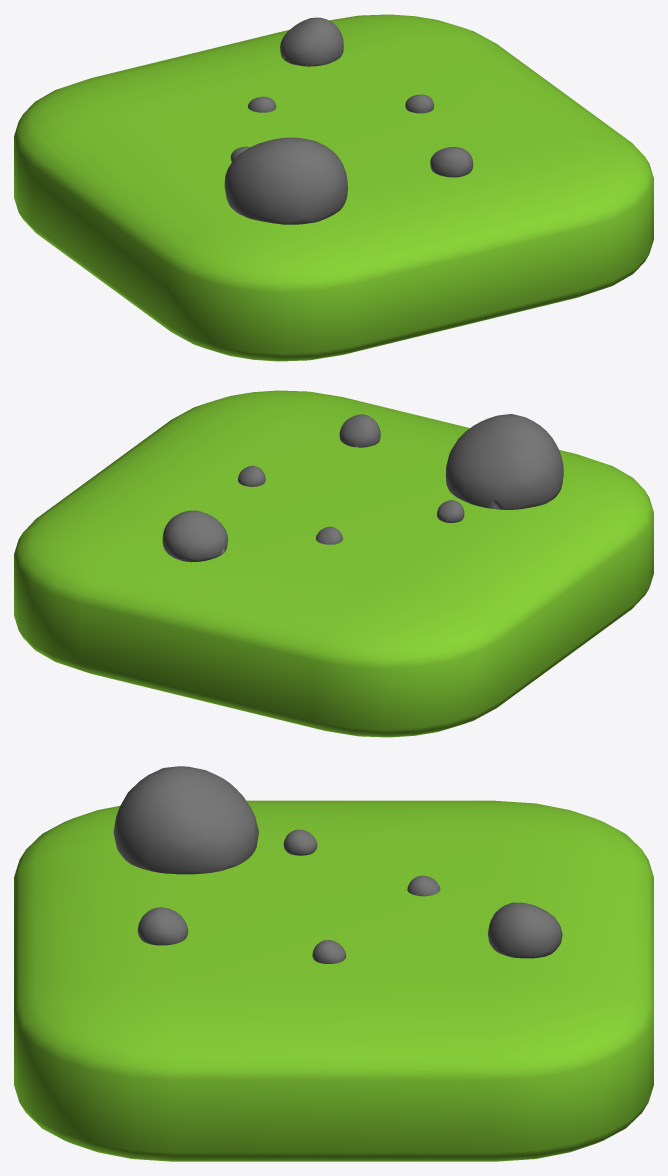
The model's file is grassland-tile-01.dae.
3 views of the same model, one above another, from view 1: azimuth 30°, elevation 25°; view 2: azimuth 150°, elevation 25°; view 3: azimuth 270°, elevation 25° (orthographic). The views are drawn at different scales.
Parts seen in each view (by area): view 1: Base, Rock.001, Rock, Rock.002; view 2: Base, Rock.001, Rock, Rock.002, Rock.003; view 3: Base, Rock.001, Rock, Rock.002, Rock.003, Rock.004.
Boxes of the visible parts, <box> form: Base: <box>14,14,653,361</box>; Rock.001: <box>224,137,347,224</box>; Rock: <box>280,17,343,66</box>; Rock.002: <box>430,147,473,177</box>; Base: <box>14,390,653,737</box>; Rock.001: <box>445,414,563,509</box>; Rock: <box>162,510,227,562</box>; Rock.002: <box>339,414,380,447</box>; Rock.003: <box>437,500,464,522</box>; Base: <box>14,800,653,1161</box>; Rock.001: <box>113,766,258,874</box>; Rock: <box>488,902,562,958</box>; Rock.002: <box>137,907,188,945</box>; Rock.003: <box>283,829,317,855</box>; Rock.004: <box>312,940,346,963</box>.
Bounding box in the file's own units: 2 × 2 × 0.7474.
